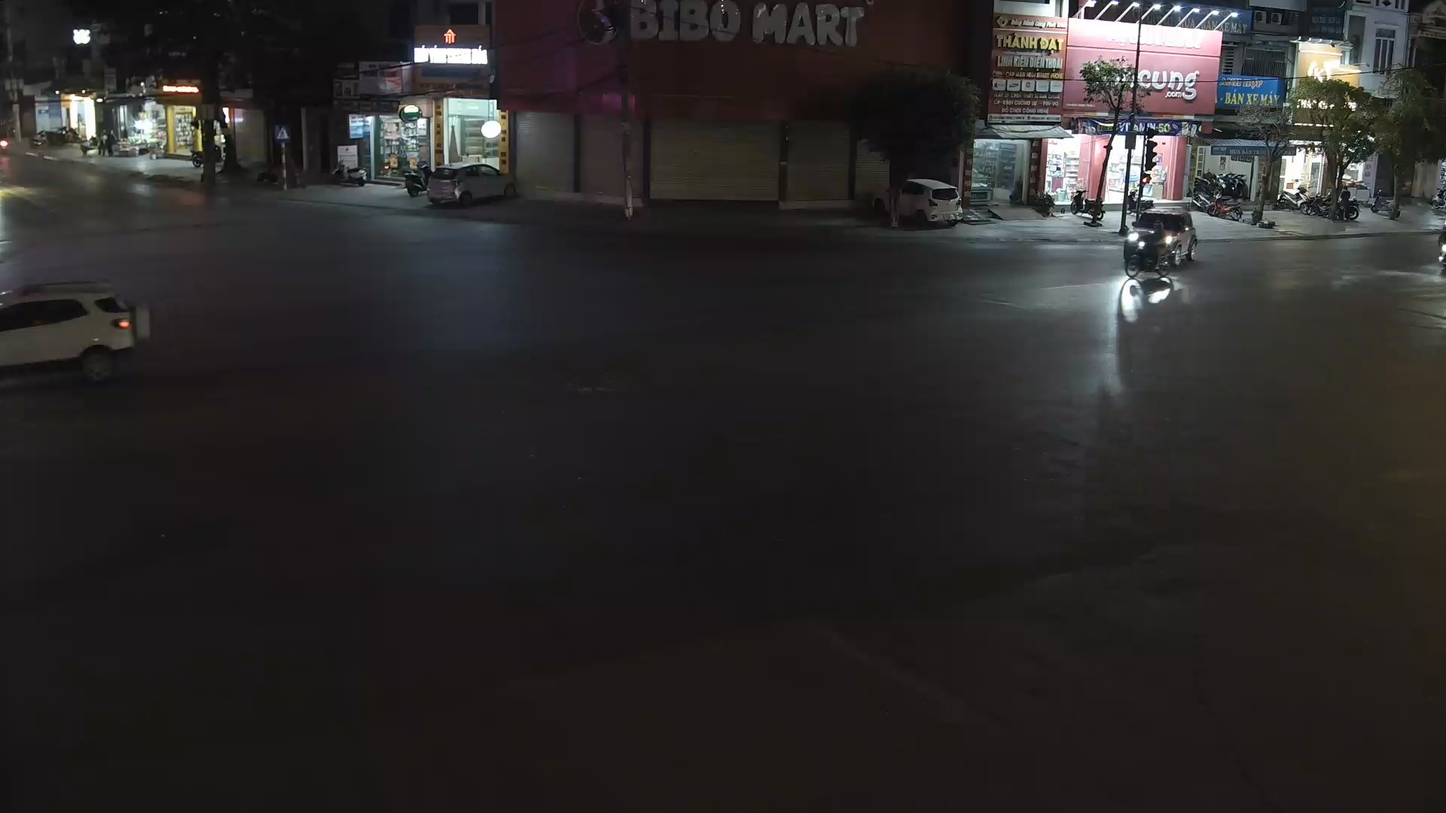car: (0, 279, 143, 393), (1123, 199, 1201, 270)
